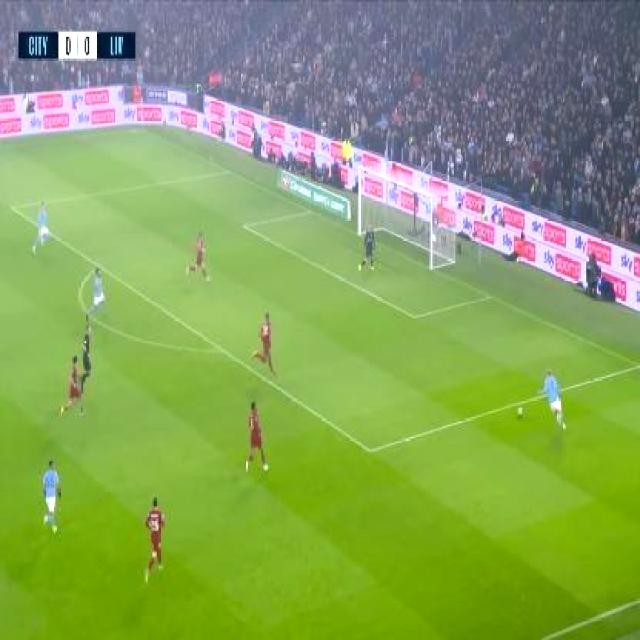bigarea_bottom_inner: (363, 442, 375, 458)
bigarea_bottom_outter: (631, 357, 640, 371)
bigarea_top_inner: (7, 200, 16, 215)
bigarea_top_outter: (223, 167, 231, 176)
corner: (136, 126, 146, 132)
smallarea_bottom_inner: (408, 308, 420, 324)
smallarea_bottom_outter: (483, 289, 494, 303)
smallarea_top_inner: (238, 218, 250, 232)
smallarea_top_outter: (305, 208, 312, 215)
top_arc_area_intersection: (92, 260, 100, 271)
